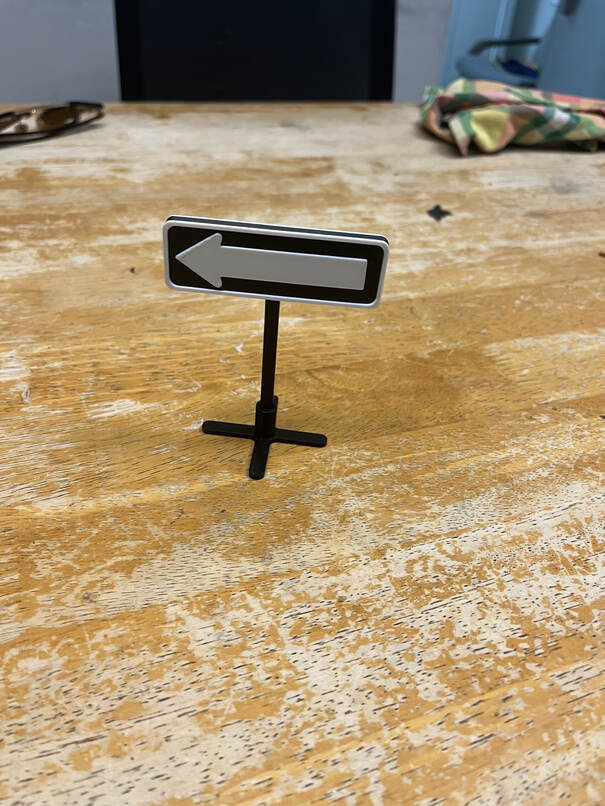sign_oneway_left: (161, 216, 381, 315)
